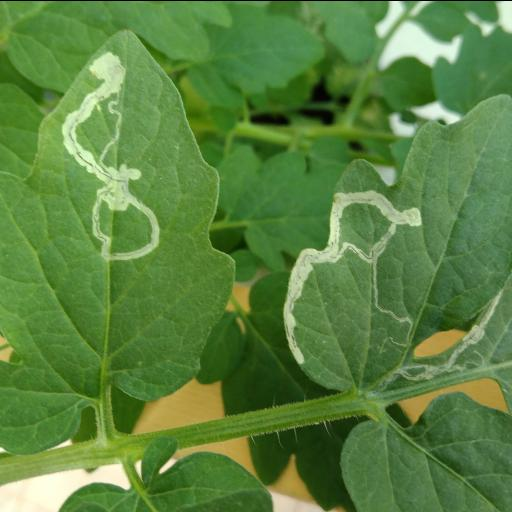Leaf Miner: (0, 27, 235, 454), (278, 94, 512, 392)
